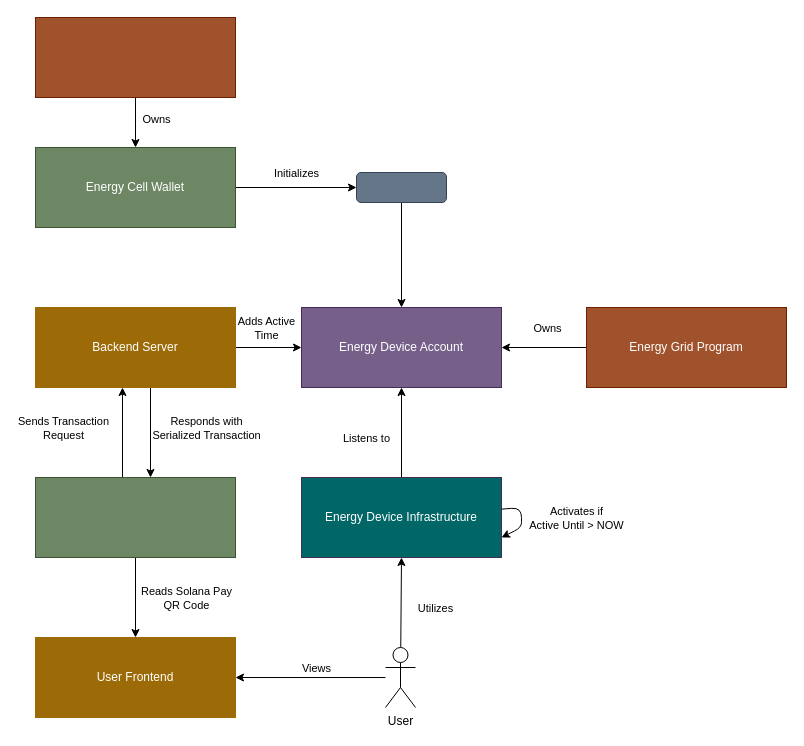
The diagram is 804 pixels wide and 746 high, and some of its shapes have lost their labels. Here are the shapes that lost their labels. From the top down, the centre of each, then its label:
At (135,57): "System Program".
At (401,187): "PDA".
At (135,517): "User Wallet".
